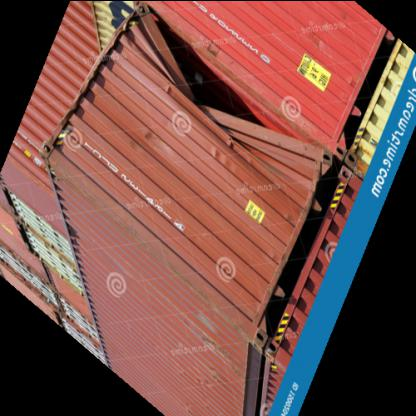Damage: (146, 38, 284, 152)
